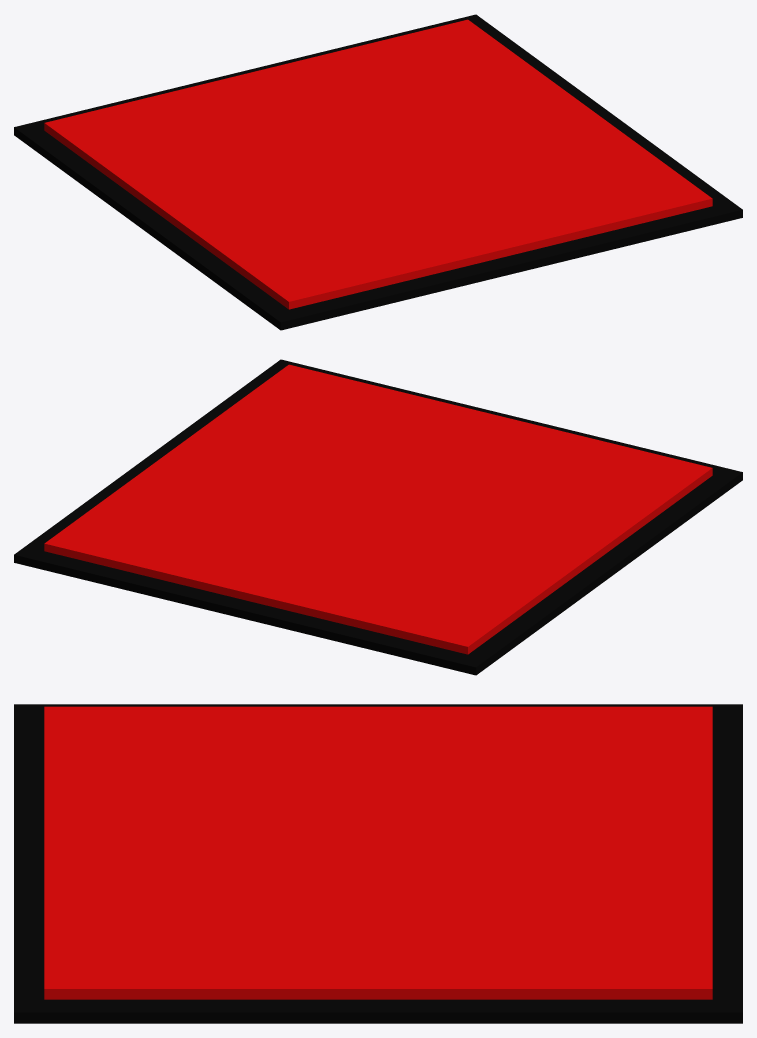
Rendered from RedPanel.fbx.
3 views of the same model, one above another, from view 1: azimuth 30°, elevation 25°; view 2: azimuth 150°, elevation 25°; view 3: azimuth 270°, elevation 25° (orthographic). The views are drawn at different scales.
Parts seen in each view (by area): view 1: pCube3; view 2: pCube3; view 3: pCube3.
Boxes of the visible parts, box(x1,y1,x2,y2) form: pCube3: box(14, 14, 742, 330); pCube3: box(14, 359, 742, 675); pCube3: box(14, 704, 742, 1023).
Bounding box in the file's own units: 3 × 0.0979 × 3.
